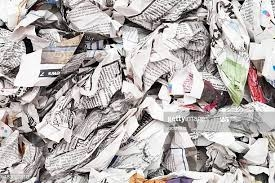paper: (132, 100, 274, 183), (32, 48, 127, 142), (35, 97, 133, 177), (132, 14, 212, 108), (203, 1, 259, 115), (11, 28, 95, 95), (1, 124, 51, 183), (65, 6, 141, 43)
